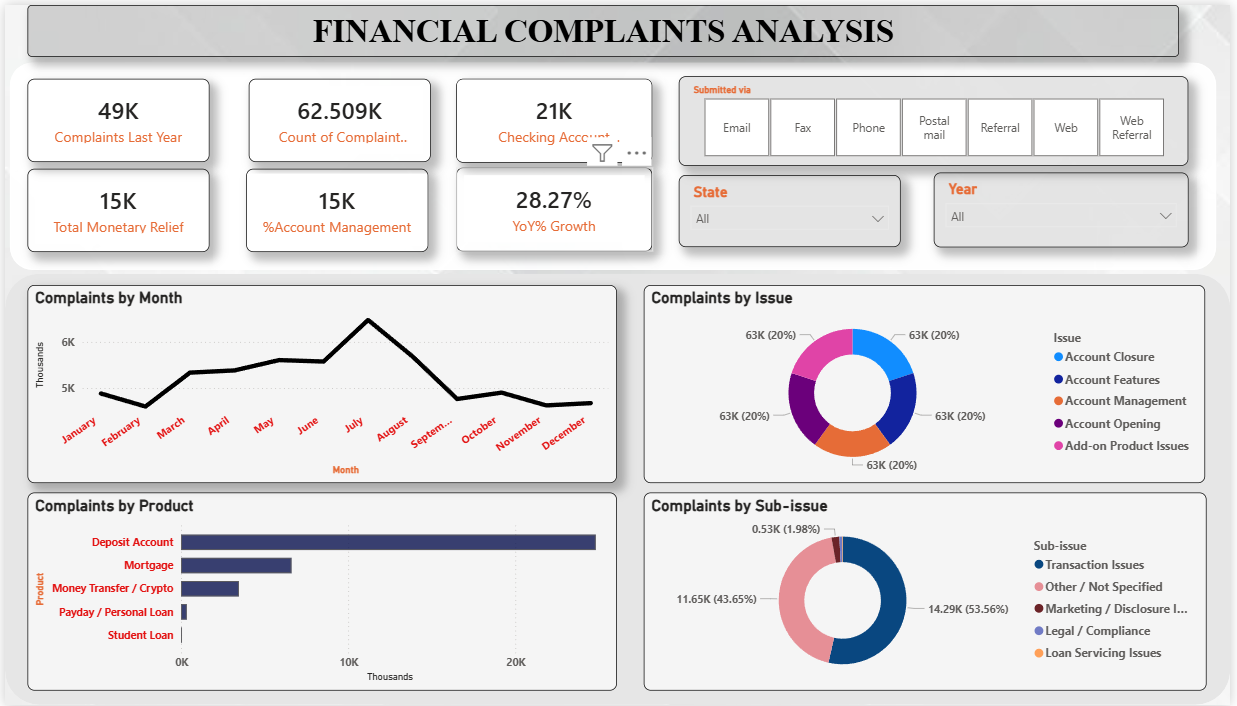

The dashboard page shown, as its layout file describes it:
{"tool":"powerbi","page":{"name":"Page 1","canvas":[1400,800],"ordinal":0},"visuals":[{"type":"shape","box":[0,307.6,1400.3,492.5],"z":500},{"type":"shape","box":[699.5,59.3,689.8,248.3],"z":1000},{"type":"shape","box":[0,59.3,760.2,248.3],"z":2000},{"type":"cardVisual","fields":{"Data":["CountNonNull(Cleaned complained data.Complaint ID)1"]},"box":[278.7,84.2,208.3,95.2],"z":3000},{"type":"cardVisual","fields":{"Data":["Cleaned complained data.Total Monetary Relief"]},"box":[26.2,187.6,208.3,95.2],"z":4000},{"type":"cardVisual","fields":{"Data":["Cleaned complained data.Complaints for Checking Account"]},"box":[515.7,84.3,224.3,95.7],"z":5000},{"type":"cardVisual","fields":{"Data":["Cleaned complained data.%Account Management"]},"box":[275.9,187.6,208.3,95.2],"z":6000},{"type":"slicer","fields":{"Values":["Cleaned complained data.Year1"]},"box":[1060.9,191.8,291.1,85.5],"z":7000},{"type":"textbox","box":[26.2,0,1316.1,59.3],"z":8000},{"type":"cardVisual","fields":{"Data":["Cleaned complained data.Complaints Last Year1"]},"box":[26.2,84.2,208.3,95.2],"z":9000},{"type":"cardVisual","fields":{"Data":["Cleaned complained data.YoY Growth %"]},"box":[515.7,185.7,224.3,95.7],"z":10000},{"type":"lineChart","title":"Complaints by Month","fields":{"Y":["CountNonNull(Cleaned complained data.Complaint ID)"],"Category":["Cleaned complained data.Month.Variation.Date Hierarchy.Month"]},"box":[26.2,320.1,673.2,226.3],"z":11000},{"type":"slicer","fields":{"Values":["Cleaned complained data.Submitted via1"]},"box":[769.8,81.4,582.2,102.1],"z":12000},{"type":"donutChart","fields":{"Y":["CountNonNull(Cleaned complained data.Complaint ID)1"],"Category":["Cleaned complained data.Sub-issue"]},"box":[729.8,557.4,642.9,226.3],"z":13000},{"type":"clusteredBarChart","fields":{"Category":["Cleaned complained data.Product"],"Y":["Cleaned complained data.Total Complaints"]},"box":[26.2,557.4,673.2,226.3],"z":14000},{"type":"donutChart","fields":{"Y":["Cleaned complained data.Total Complaints"],"Category":["Cleaned complained_ data.Issue"]},"box":[729.8,320.1,641.5,226.3],"z":15000},{"type":"slicer","fields":{"Values":["Cleaned complained data.State"]},"box":[769.8,194.5,253.8,82.8],"z":16000}]}

Visuals, with their boxes in screenshot pixels (x1, y1, x2, y2), scaled from the page's 1400x800 canvas onto the 1237x706 screenshot:
shape: bbox(0, 271, 1236, 705)
shape: bbox(618, 52, 1228, 271)
shape: bbox(0, 52, 672, 271)
cardVisual - CountNonNull(Cleaned complained data.Complaint ID)1: bbox(246, 74, 430, 158)
cardVisual - Cleaned complained data.Total Monetary Relief: bbox(23, 166, 207, 250)
cardVisual - Cleaned complained data.Complaints for Checking Account: bbox(456, 74, 654, 159)
cardVisual - Cleaned complained data.%Account Management: bbox(244, 166, 428, 250)
slicer - Cleaned complained data.Year1: bbox(937, 169, 1195, 245)
textbox: bbox(23, 0, 1186, 52)
cardVisual - Cleaned complained data.Complaints Last Year1: bbox(23, 74, 207, 158)
cardVisual - Cleaned complained data.YoY Growth %: bbox(456, 164, 654, 248)
"Complaints by Month" lineChart: bbox(23, 282, 618, 482)
slicer - Cleaned complained data.Submitted via1: bbox(680, 72, 1195, 162)
donutChart - CountNonNull(Cleaned complained data.Complaint ID)1 x Cleaned complained data.Sub-issue: bbox(645, 492, 1213, 692)
clusteredBarChart - Cleaned complained data.Product x Cleaned complained data.Total Complaints: bbox(23, 492, 618, 692)
donutChart - Cleaned complained data.Total Complaints x Cleaned complained_ data.Issue: bbox(645, 282, 1212, 482)
slicer - Cleaned complained data.State: bbox(680, 172, 904, 245)
